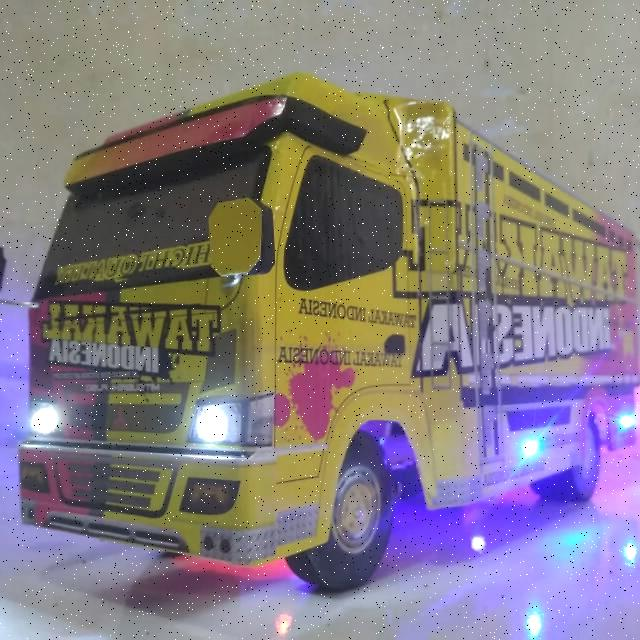truck: (18, 81, 640, 591)
